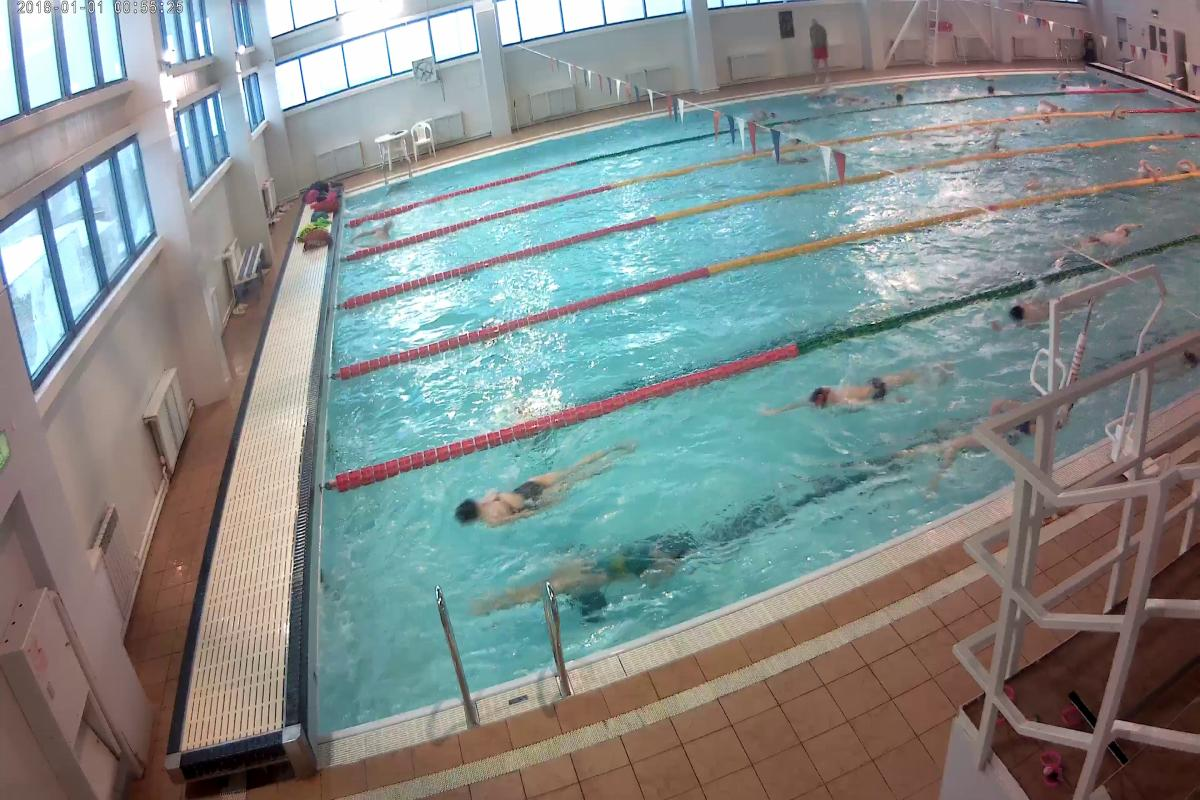swimmer: (494, 536, 690, 615), (437, 447, 628, 527), (768, 357, 929, 424), (1058, 207, 1154, 255), (992, 294, 1047, 344), (350, 220, 402, 246), (1134, 155, 1164, 178)
